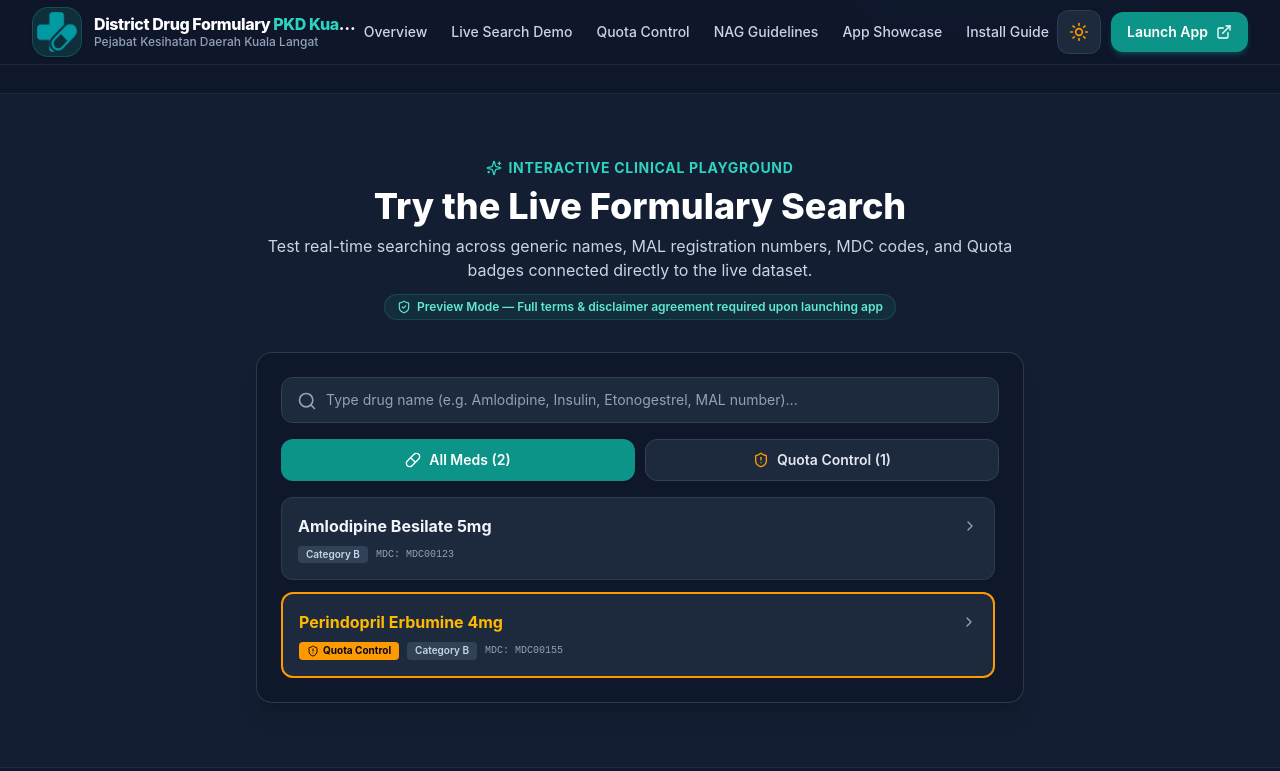
IntroPage component › filters medications in live search playground
(page scrolled)
Step 1. Replace the text in the search field with placeholder "Type drug name" with "Amlodipine" → (640, 400), box [281,377,999,423]
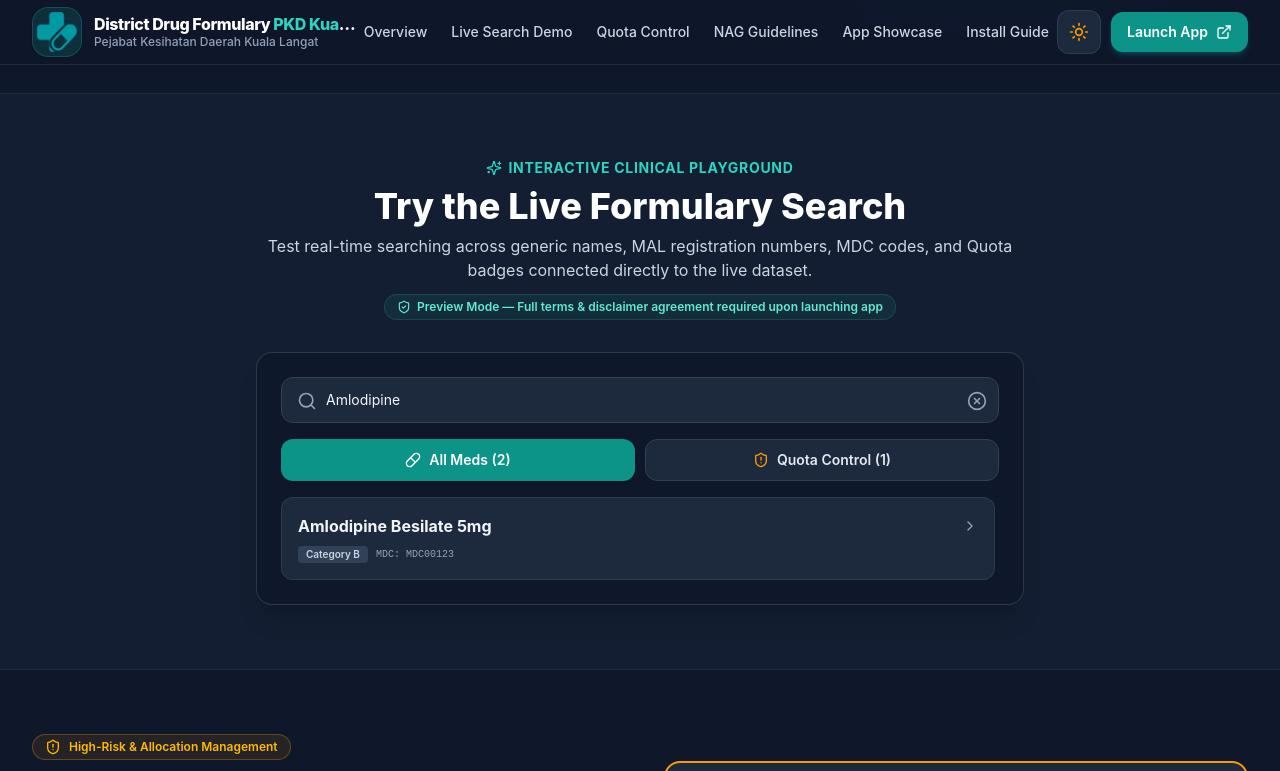
Expected: the heading "Amlodipine Besilate 5mg" is shown, [298,514,492,538]
Now the button "Perindopril Erbumine 4mg" is gone
